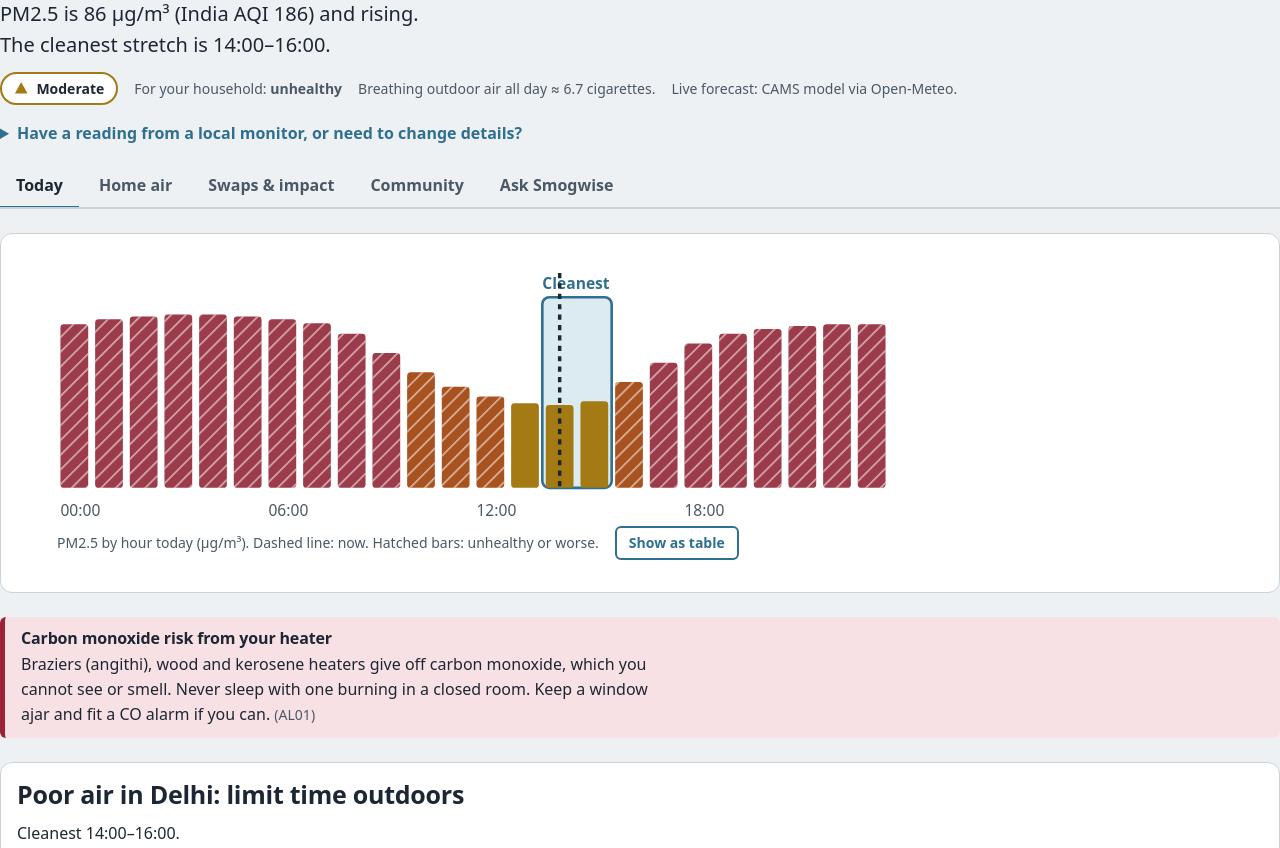
Test: PlanView — Home air and Swaps › shows each purifier verdict and honest trade-offs
Later steps or results of the test are not shown.
What coordinates should you click on to do the following:
click the tab "Home air"
I would click on:
 (136, 187)
Its box is 83,165 -> 188,209.
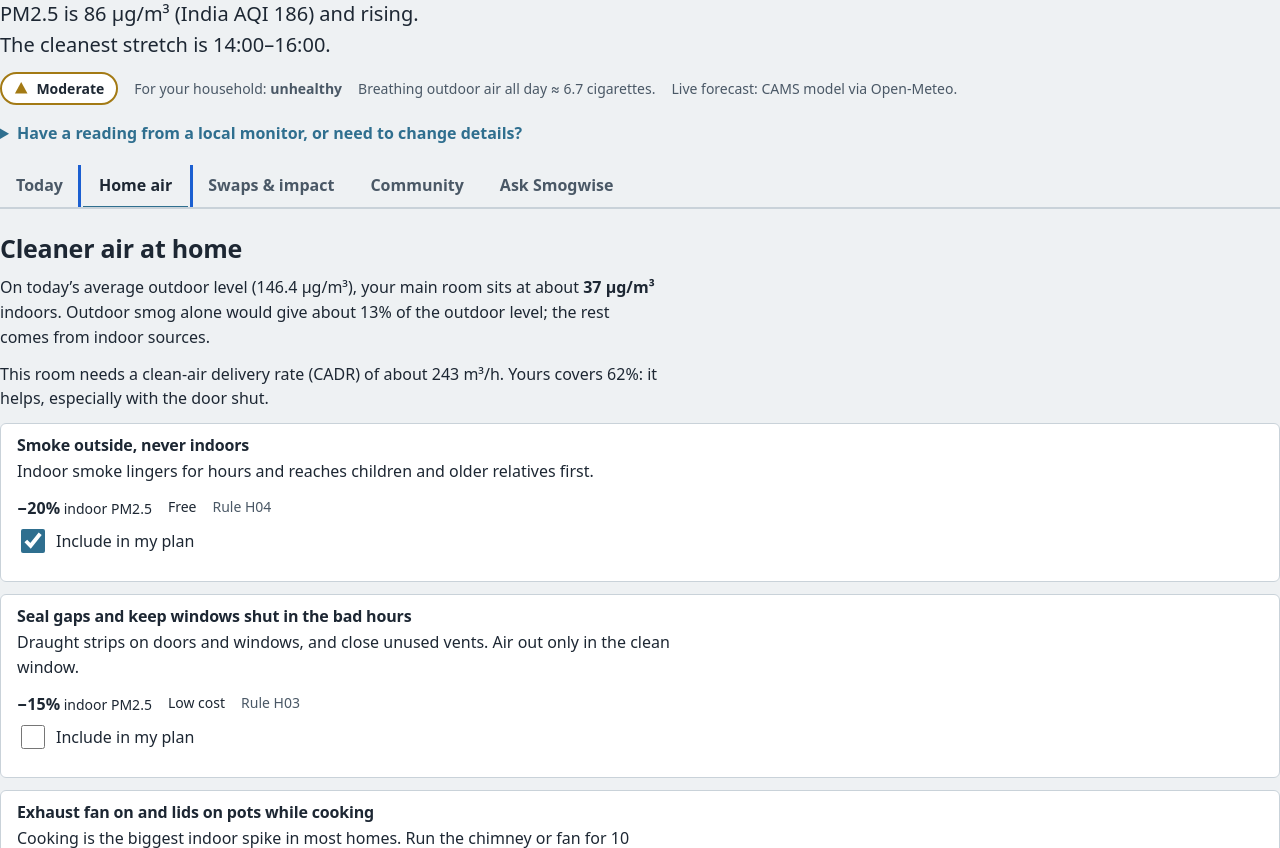
Now the text "Yours covers 62%" is shown, box 0,363 -> 657,409
What coordinates should you click on to do the following:
click the tab "Swaps & impact"
I would click on:
 (271, 187)
Its box is 192,165 -> 350,209.
(page scrolled)
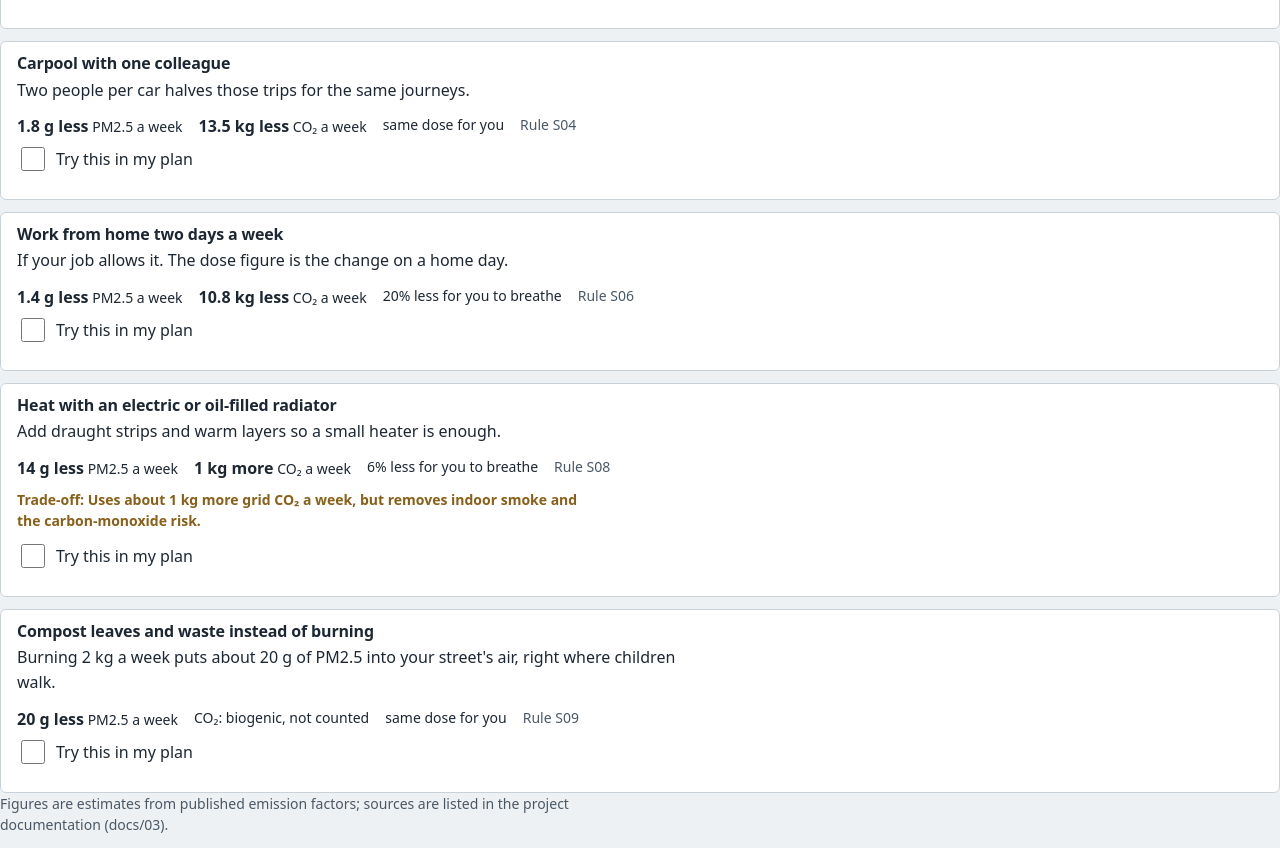
Now the text "Trade-off: Uses about 1 kg more grid CO₂" is shown, box 17,489 -> 594,532
Now the list item "CO₂: biogenic, not counted" is shown, box 194,707 -> 369,732
